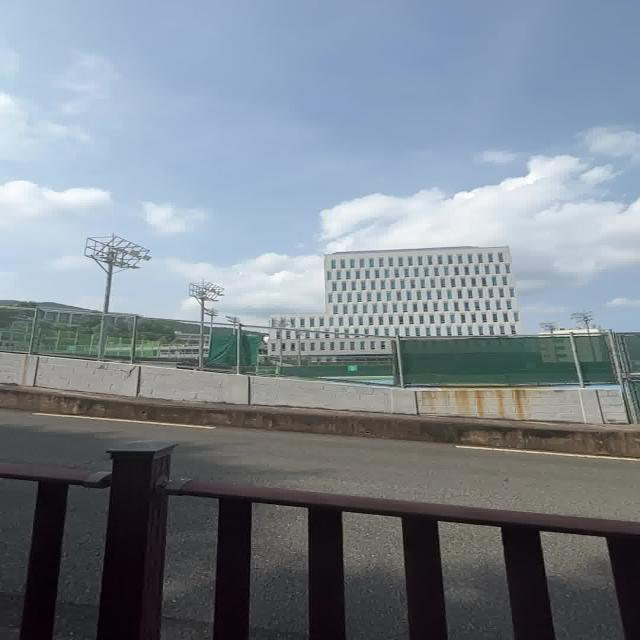building: (274, 243, 517, 340)
